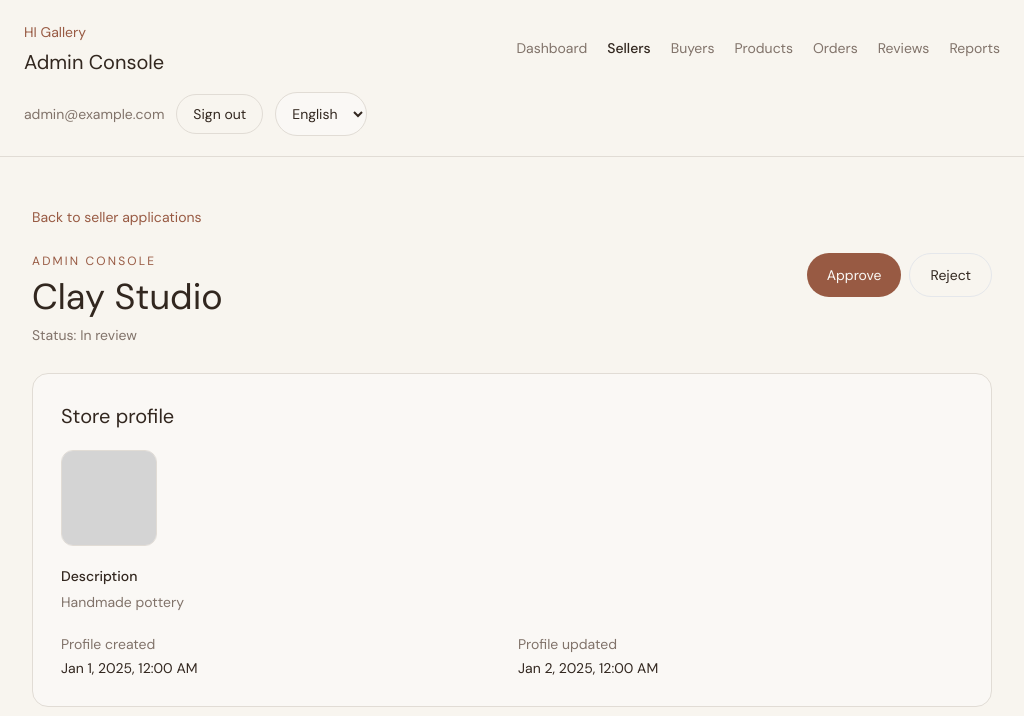
it: admin seller review › validates rejection reason and submits the required reason
This screenshot has width=1024, height=716.
Click the button "Reject". click: point(951, 275)
box: top-left (910, 253), bottom-right (992, 297)
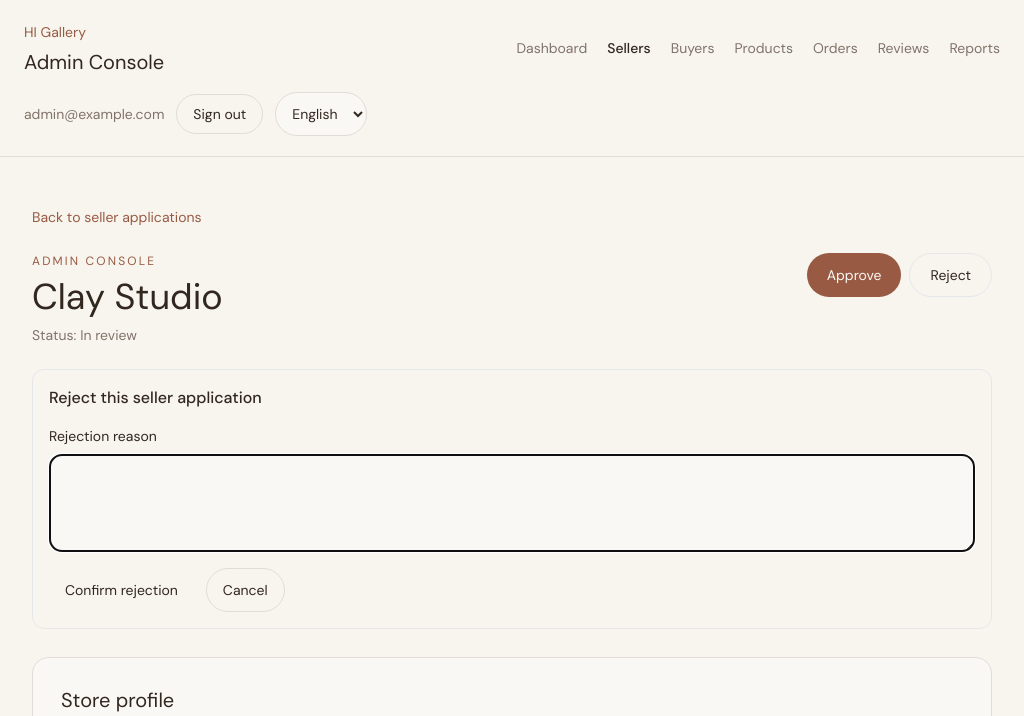
Click the button "Confirm rejection". click: point(121, 590)
box: top-left (49, 568), bottom-right (194, 612)
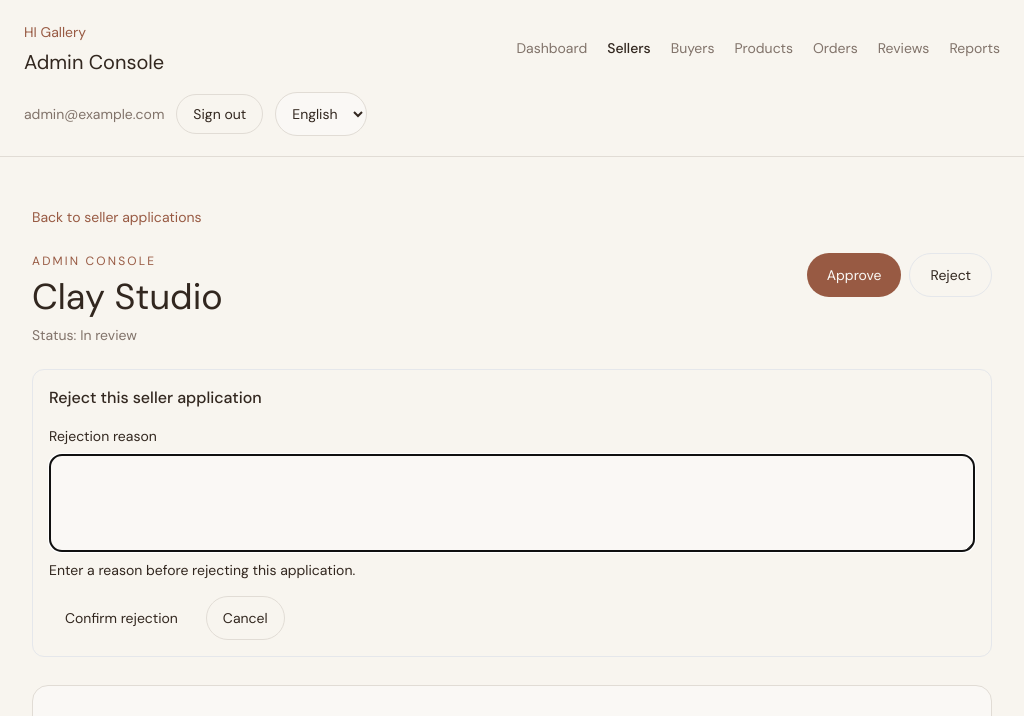
Expected: the message reads "Enter a reason before rejecting this application.", top-left (49, 561), bottom-right (355, 579)
Type "  Add clearer product photographs.  " into the text box labelled "Rejection reason". click: point(512, 503)
box: top-left (49, 454), bottom-right (975, 552)
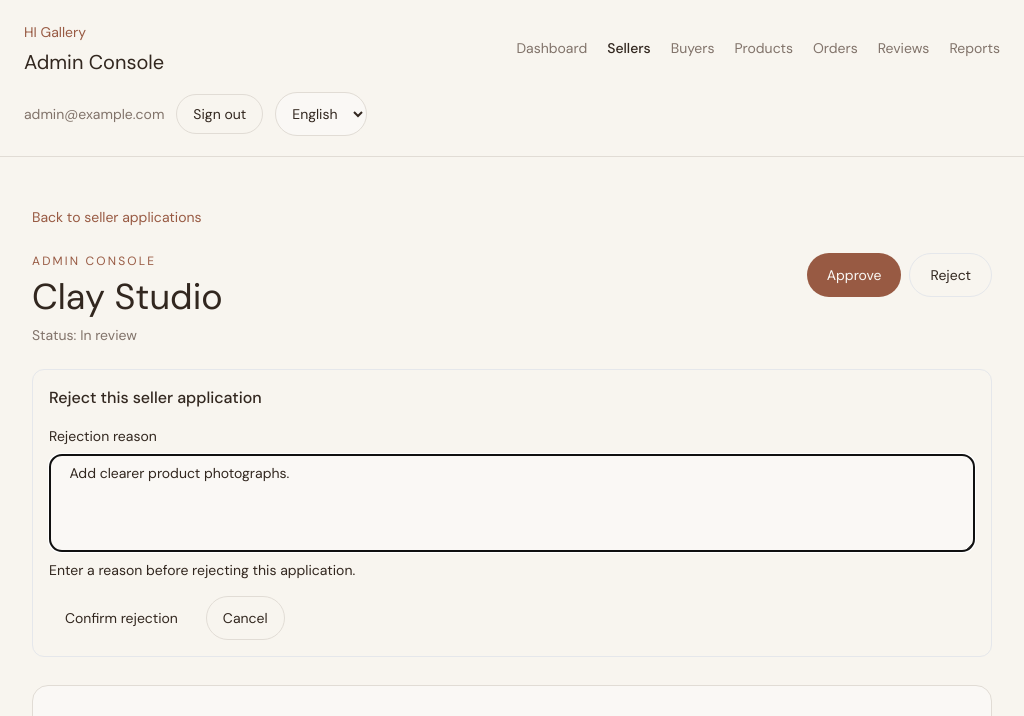
Click the button "Confirm rejection". click: point(121, 618)
box: top-left (49, 596), bottom-right (194, 640)
(page scrolled)
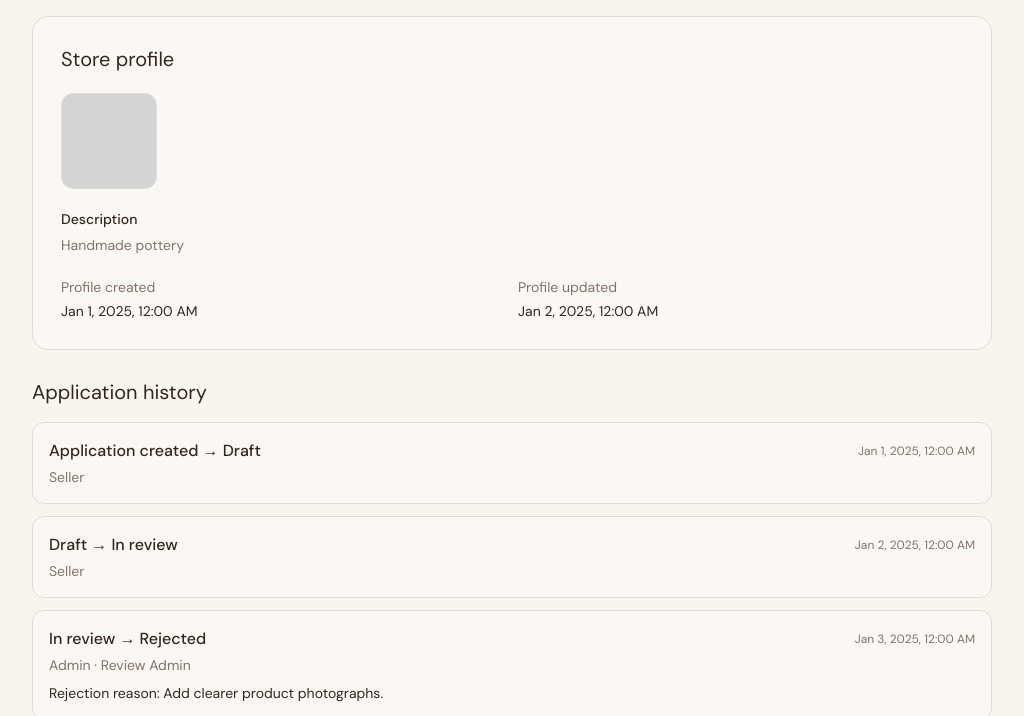
Expected: the text "Rejection reason: Add clearer product photographs." is shown, top-left (49, 684), bottom-right (383, 702)
